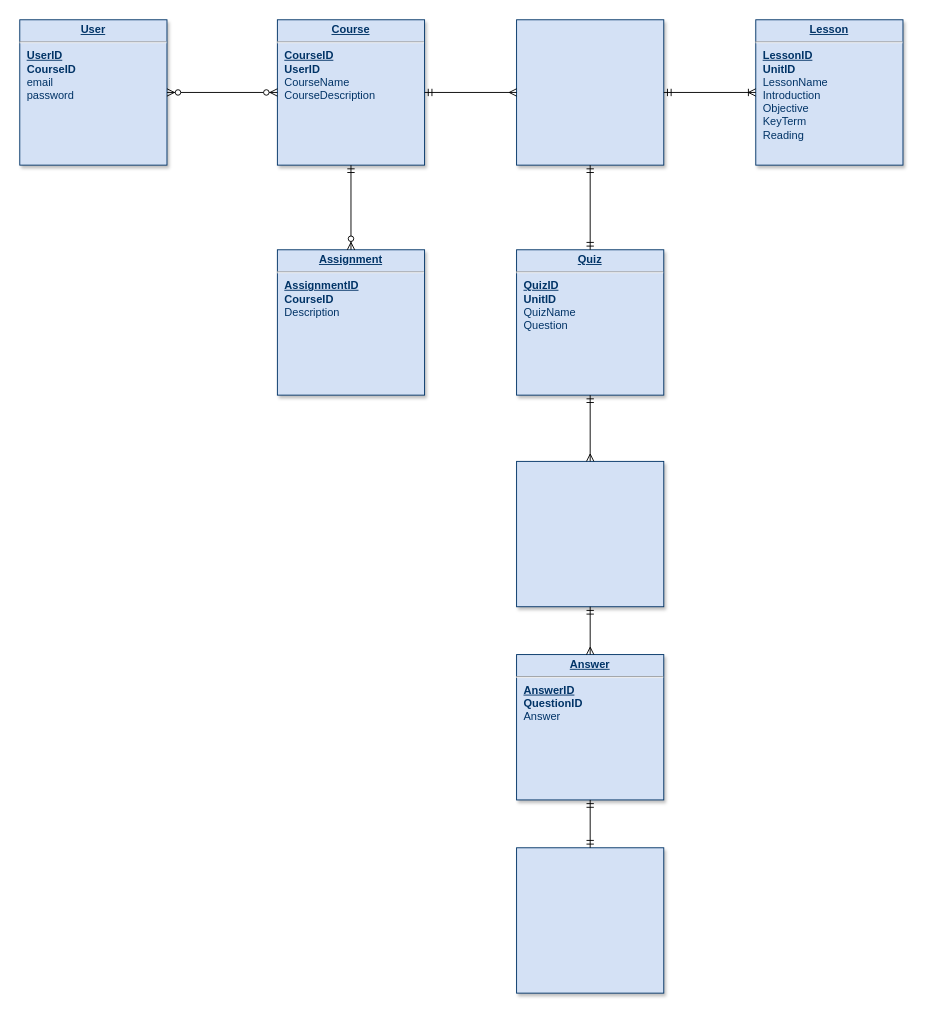
Image size: 925x1016. Some labels were removed from this diagram. Here are the shapes that lost their labels. From the top down, the centre of each, then its label:
the point at 590,93: Unit UnitID CourseID UnitName UnitDescription
the point at 590,535: Question QuestionID QuizID Question
the point at 590,921: UserAnswer UserAnswerID AnswerID Response
